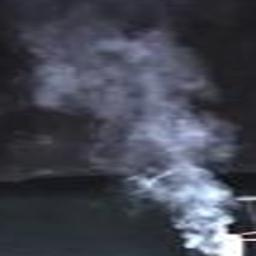smoke: (10, 5, 244, 256)
